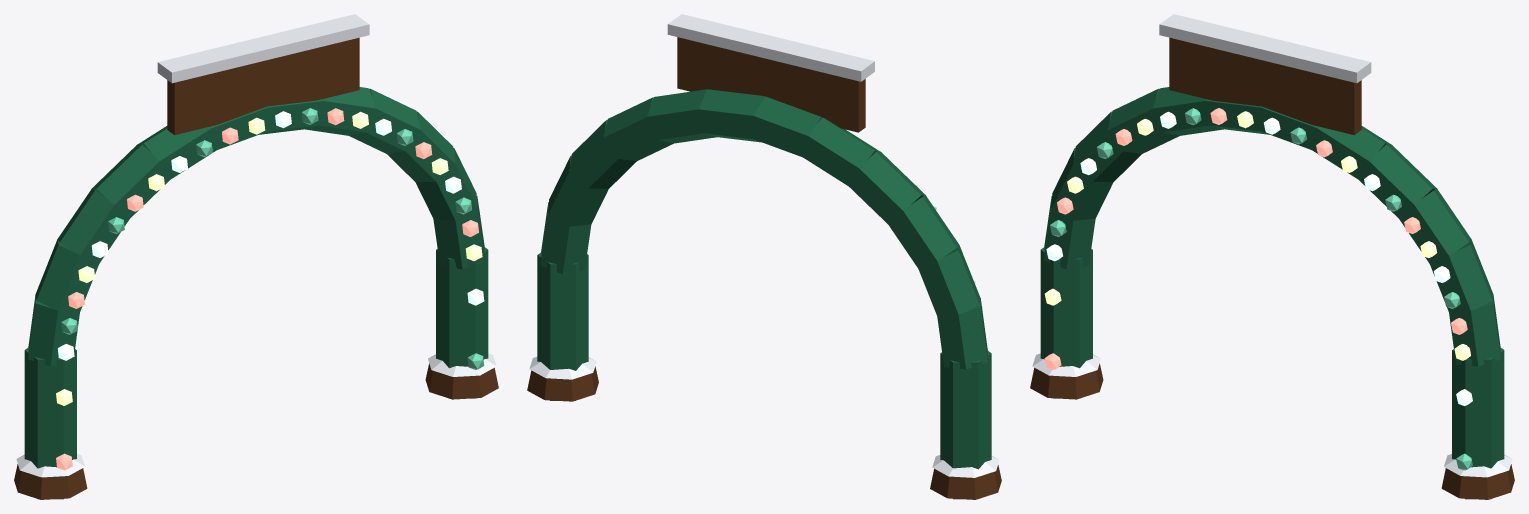
Rendered from PhotoArch.fbx.
3 views of the same model, side by side, from view 1: azimuth 30°, elevation 25°; view 2: azimuth 150°, elevation 25°; view 3: azimuth 330°, elevation 25° (orthographic). The views are drawn at different scales.
Parts seen in each view (by area): view 1: PhotoArch_GreenDark, PhotoArch_WoodDark, PhotoArch_Snow, PhotoArch_GlowRed, PhotoArch_GlowBlue, PhotoArch_GlowGreen, PhotoArch_GlowGold; view 2: PhotoArch_GreenDark, PhotoArch_WoodDark, PhotoArch_Snow; view 3: PhotoArch_GreenDark, PhotoArch_WoodDark, PhotoArch_Snow, PhotoArch_GlowGreen, PhotoArch_GlowGold, PhotoArch_GlowBlue, PhotoArch_GlowRed.
Part boxes in pixels (bbox=[...]): PhotoArch_GreenDark: bbox=[24, 87, 488, 499]; PhotoArch_WoodDark: bbox=[14, 37, 498, 499]; PhotoArch_Snow: bbox=[16, 14, 496, 477]; PhotoArch_GlowRed: bbox=[56, 108, 478, 470]; PhotoArch_GlowBlue: bbox=[57, 111, 484, 360]; PhotoArch_GlowGreen: bbox=[61, 108, 484, 369]; PhotoArch_GlowGold: bbox=[56, 111, 482, 405]; PhotoArch_GreenDark: bbox=[537, 89, 991, 499]; PhotoArch_WoodDark: bbox=[527, 37, 1001, 499]; PhotoArch_Snow: bbox=[529, 14, 999, 477]; PhotoArch_GreenDark: bbox=[1040, 87, 1504, 499]; PhotoArch_WoodDark: bbox=[1030, 37, 1514, 499]; PhotoArch_Snow: bbox=[1032, 14, 1512, 477]; PhotoArch_GlowGreen: bbox=[1050, 108, 1472, 470]; PhotoArch_GlowGold: bbox=[1044, 111, 1470, 360]; PhotoArch_GlowBlue: bbox=[1046, 111, 1472, 405]; PhotoArch_GlowRed: bbox=[1044, 108, 1467, 369].
Size of the model in its own units: 2320 by 1864 by 320.
